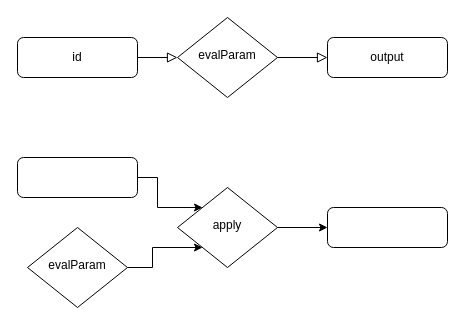
This 465x325 diagram has some shape labels left out. Here are the shapes that lost their labels. From the top down, the centre of each, then its label:
At pixel 77 177: "list of ids".
At pixel 387 227: "list of outputs".
